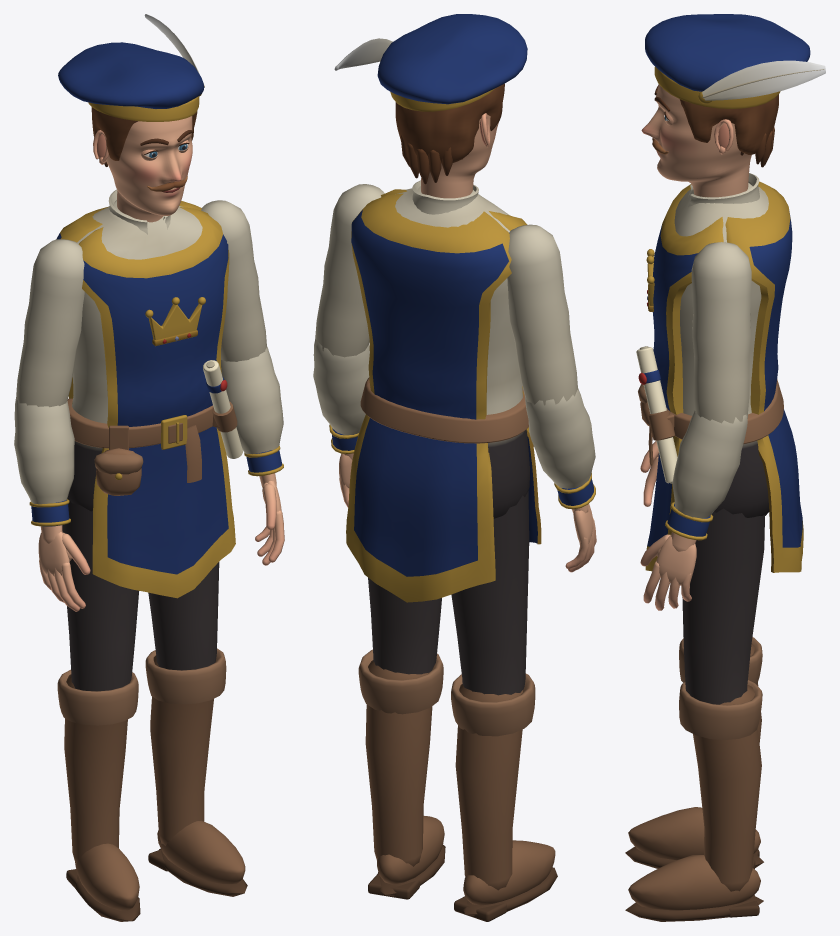
Rendered from courier.glb.
3 renders of one model, left to right at view 1: azimuth 30°, elevation 25°; view 2: azimuth 150°, elevation 25°; view 3: azimuth 270°, elevation 25°, orthographic. The views are drawn at different scales.
Parts seen in each view (by area): view 1: courier, courier_head, courier_forearm_r, courier_arm_r, courier_forearm_l, courier_arm_l; view 2: courier, courier_head, courier_arm_r, courier_forearm_r, courier_arm_l, courier_forearm_l; view 3: courier, courier_head, courier_arm_l, courier_forearm_l, courier_forearm_r.
Part boxes in pixels (x1=…): courier: x1=56, y1=189, x2=247, y2=921; courier_head: x1=58, y1=14, x2=204, y2=222; courier_forearm_r: x1=14, y1=399, x2=90, y2=611; courier_arm_r: x1=16, y1=239, x2=84, y2=407; courier_forearm_l: x1=221, y1=346, x2=284, y2=565; courier_arm_l: x1=201, y1=200, x2=266, y2=361; courier: x1=346, y1=180, x2=557, y2=921; courier_head: x1=334, y1=14, x2=527, y2=198; courier_arm_r: x1=507, y1=224, x2=577, y2=405; courier_forearm_r: x1=525, y1=388, x2=596, y2=572; courier_arm_l: x1=315, y1=184, x2=384, y2=357; courier_forearm_l: x1=313, y1=336, x2=369, y2=507; courier: x1=625, y1=173, x2=803, y2=921; courier_head: x1=641, y1=14, x2=825, y2=197; courier_arm_l: x1=691, y1=242, x2=751, y2=423; courier_forearm_l: x1=640, y1=410, x2=747, y2=610; courier_forearm_r: x1=640, y1=441, x2=658, y2=506.
Bounding box in the file's own units: 0.5896 × 1.8 × 0.3819.
